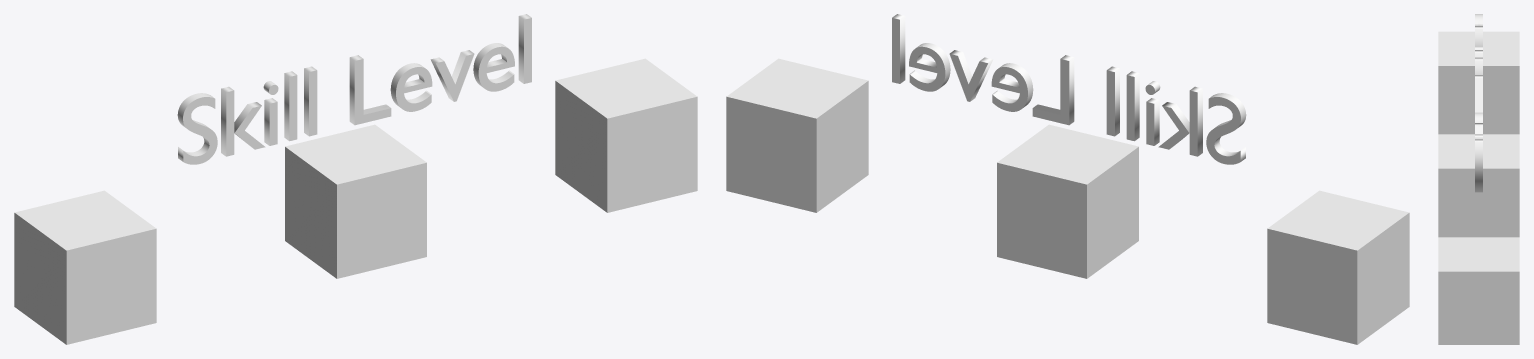
File: SkillUI.obj
The picture shows the model from 3 angles, left to right: view 1: azimuth 30°, elevation 25°; view 2: azimuth 150°, elevation 25°; view 3: azimuth 270°, elevation 25°; orthographic projection. The views are drawn at different scales.
Parts seen in each view (by area): view 1: 立方体.001, 立方体.002, 立方体, テキスト.002; view 2: 立方体.001, 立方体.002, 立方体, テキスト.002; view 3: 立方体.002, 立方体, 立方体.001, テキスト.002.
Part boxes in pixels (x1=…): 立方体.001: x1=14, y1=190, x2=156, y2=344; 立方体.002: x1=555, y1=58, x2=697, y2=212; 立方体: x1=285, y1=124, x2=426, y2=278; テキスト.002: x1=177, y1=14, x2=531, y2=164; 立方体.001: x1=1267, y1=190, x2=1409, y2=344; 立方体.002: x1=726, y1=58, x2=868, y2=212; 立方体: x1=997, y1=124, x2=1138, y2=278; テキスト.002: x1=892, y1=14, x2=1246, y2=164; 立方体.002: x1=1438, y1=237, x2=1519, y2=344; 立方体: x1=1438, y1=134, x2=1519, y2=237; 立方体.001: x1=1438, y1=31, x2=1519, y2=134; テキスト.002: x1=1475, y1=14, x2=1482, y2=192.
Bounding box in the file's own units: 7 × 2.03 × 1.
4 materials, 4 textured.
